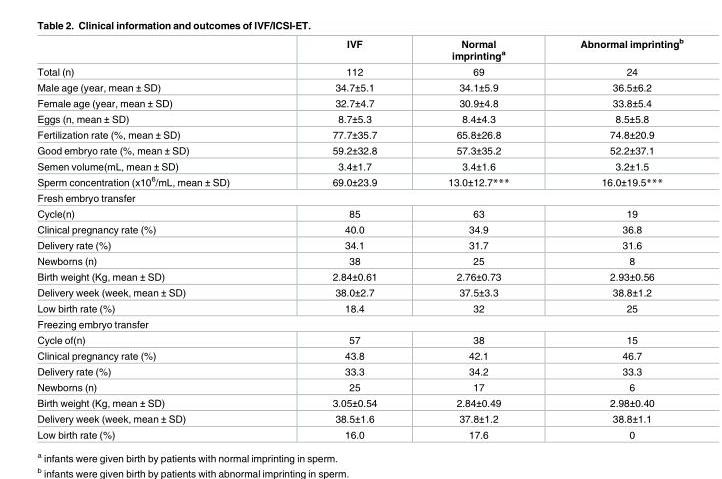table: (36, 37, 682, 439)
table column: (36, 37, 280, 439), (544, 37, 682, 439), (411, 37, 544, 439), (280, 37, 411, 439)
table column header: (36, 37, 682, 63)
table projected row header: (36, 190, 682, 206), (36, 316, 682, 332)
table row: (36, 37, 682, 63), (36, 173, 682, 190), (36, 63, 682, 79), (36, 94, 682, 110), (36, 110, 682, 126), (36, 126, 682, 142), (36, 142, 682, 158), (36, 190, 682, 206), (36, 221, 682, 237), (36, 237, 682, 253), (36, 268, 682, 284), (36, 284, 682, 300), (36, 300, 682, 316), (36, 316, 682, 332), (36, 332, 682, 348), (36, 363, 682, 379), (36, 394, 682, 410), (36, 410, 682, 426), (36, 79, 682, 94), (36, 158, 682, 173), (36, 206, 682, 221), (36, 253, 682, 268), (36, 348, 682, 363), (36, 379, 682, 394), (36, 426, 682, 439)
